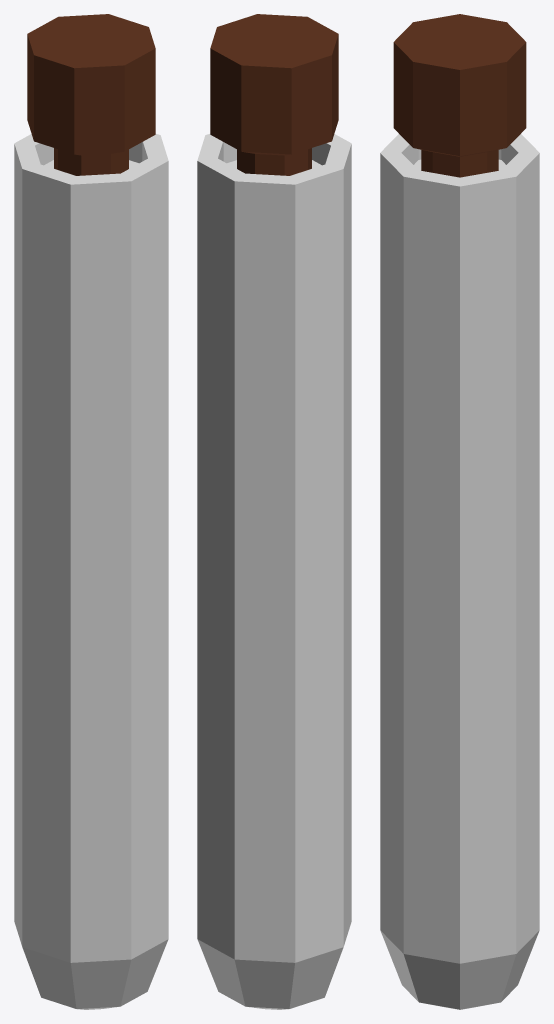
Rendered from potion4.glb.
The picture shows the model from 3 angles, left to right: view 1: azimuth 30°, elevation 25°; view 2: azimuth 150°, elevation 25°; view 3: azimuth 270°, elevation 25°; orthographic projection.
Visible parts, largest first — view 1: Potion4; view 2: Potion4; view 3: Potion4.
Part boxes in pixels (<box>): Potion4: <box>14,14,168,1009</box>; Potion4: <box>197,14,351,1009</box>; Potion4: <box>380,14,539,1009</box>.
Bounding box in the file's own units: 0.1439 × 0.9538 × 0.1439.
